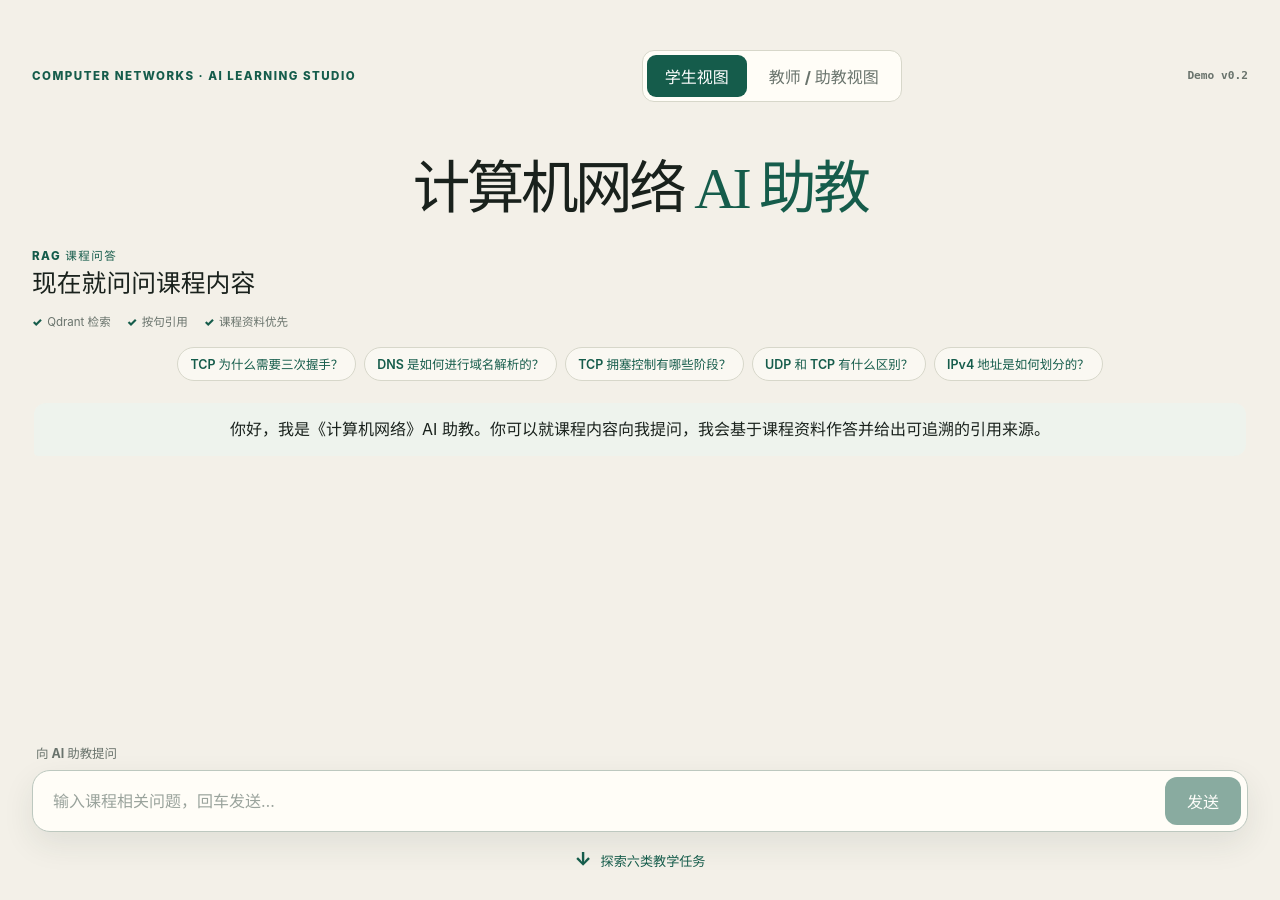
Scenario: TeacherDashboard › returns to the student view
What coordinates should you click on to do the following:
click the button "教师 / 助教视图"
I would click on:
 (824, 76)
Its box is [751,55,897,97].
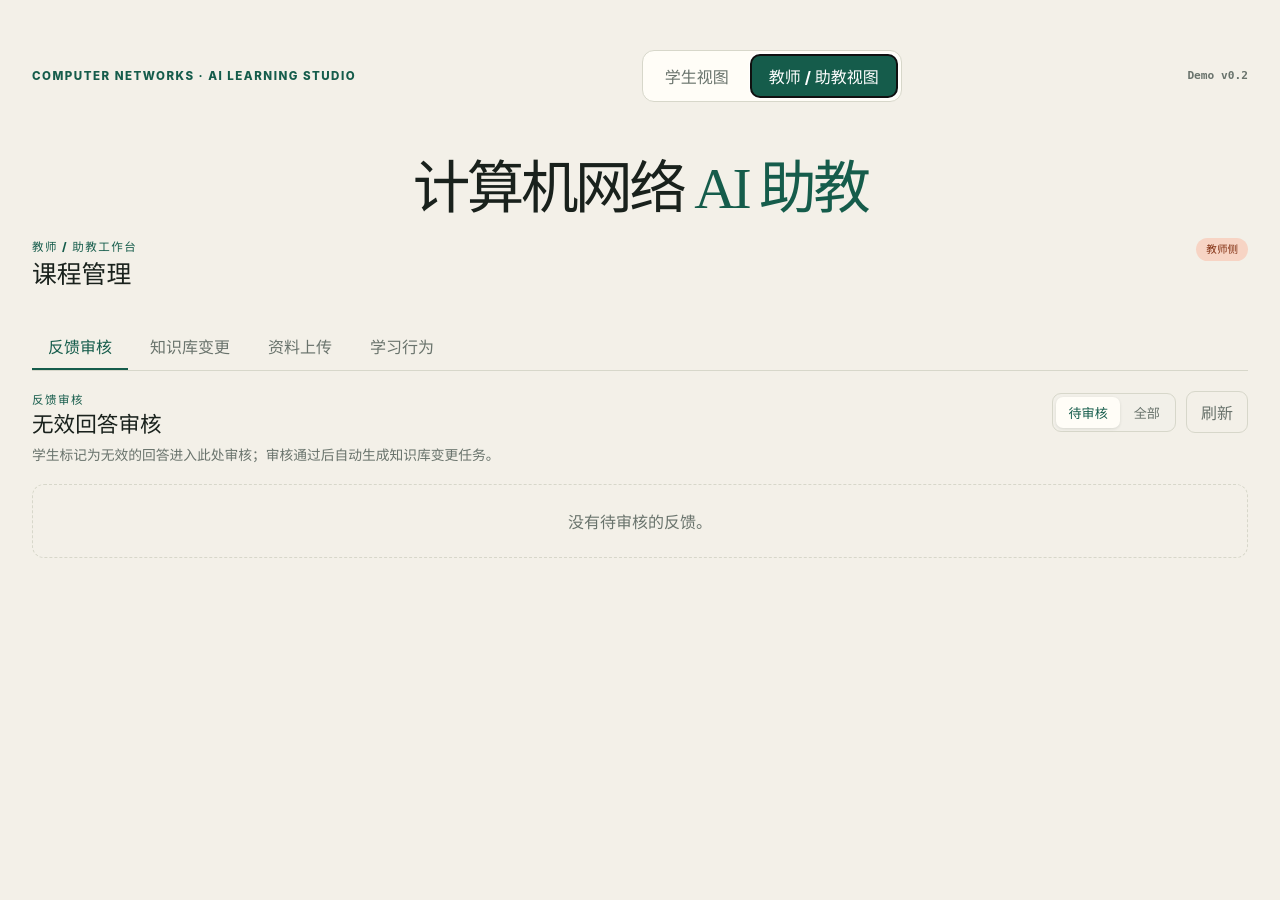
Check: the text "教师 / 助教工作台" is shown, box [32,238,137,254]
What coordinates should you click on to do the following:
click the button "学生视图"
I would click on:
 (697, 76)
Its box is [647,55,747,97].
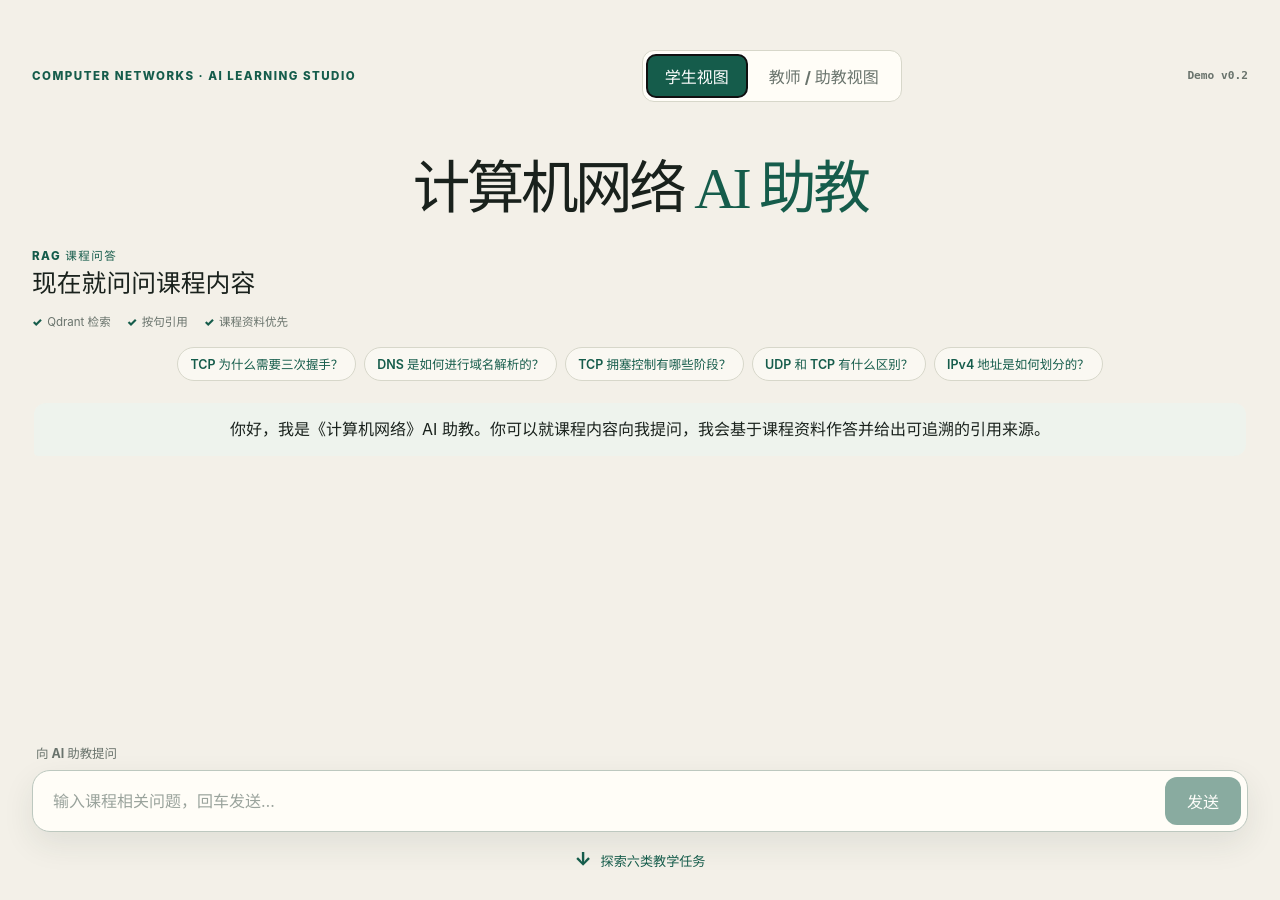
Check: the field labelled "向 AI 助教提问" is shown, box [39,777,1157,825]
Check: the text "教师 / 助教工作台" is gone
